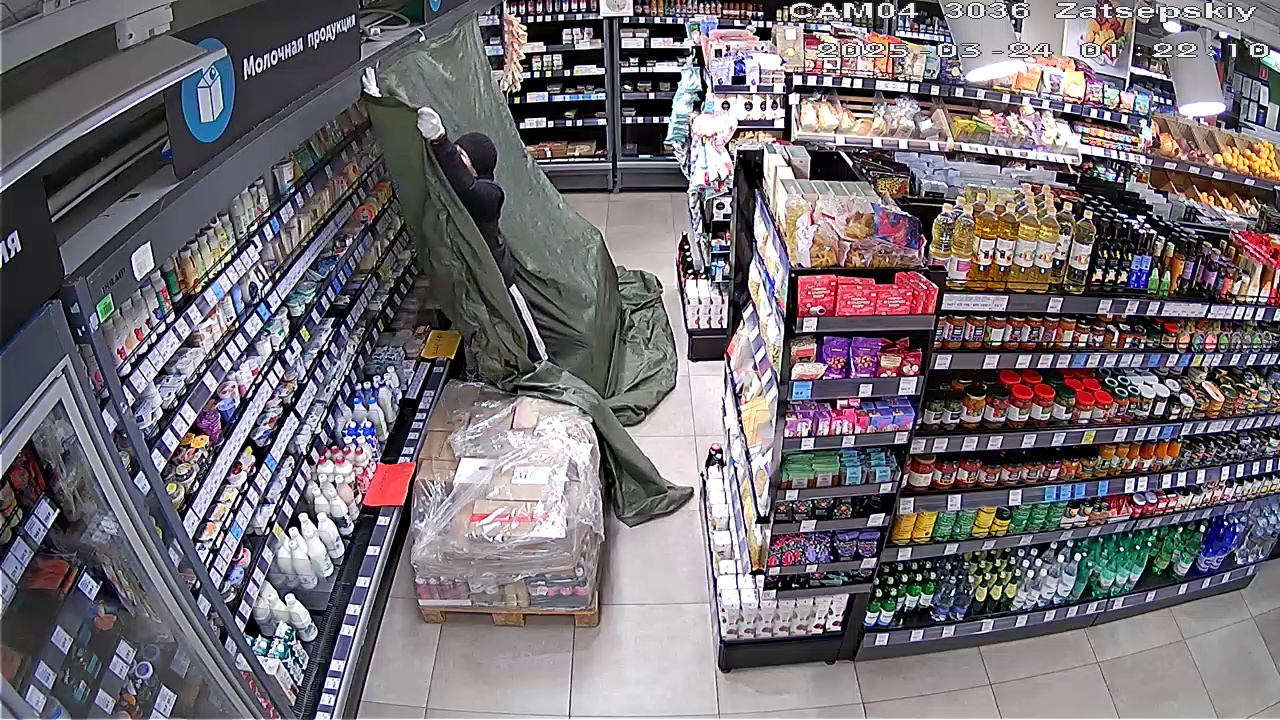Human: (410, 95, 517, 281)
dome: (354, 28, 698, 527)
pallet: (409, 392, 603, 626)
